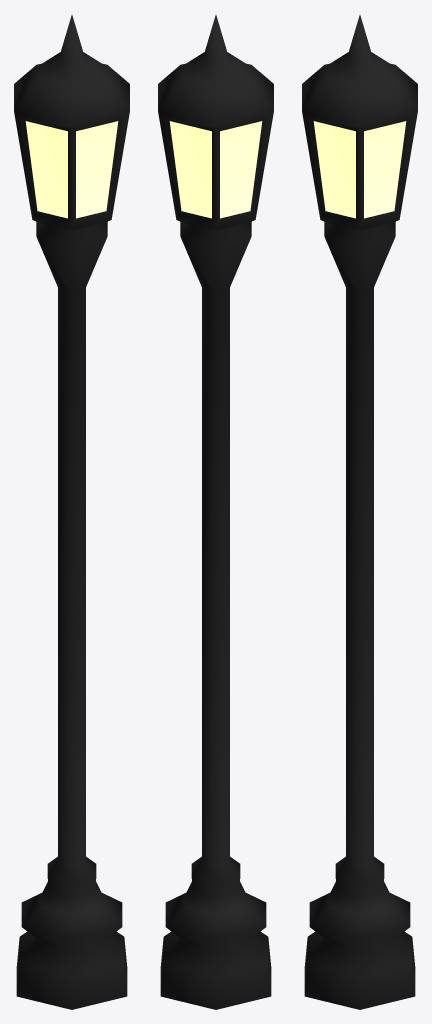
Rendered from lamp.glb.
3 views of the same model, side by side, from view 1: azimuth 90°, elevation 25°; view 2: azimuth 150°, elevation 25°; view 3: azimuth 270°, elevation 25° (orthographic).
Visible parts, largest first — view 1: Lamp; view 2: Lamp; view 3: Lamp.
Boxes of the visible parts, bbox=[...] form: Lamp: bbox=[14, 15, 129, 1009]; Lamp: bbox=[158, 15, 273, 1009]; Lamp: bbox=[302, 15, 417, 1009].
Bounding box in the file's own units: 0.5688 × 4.55 × 0.4926.
